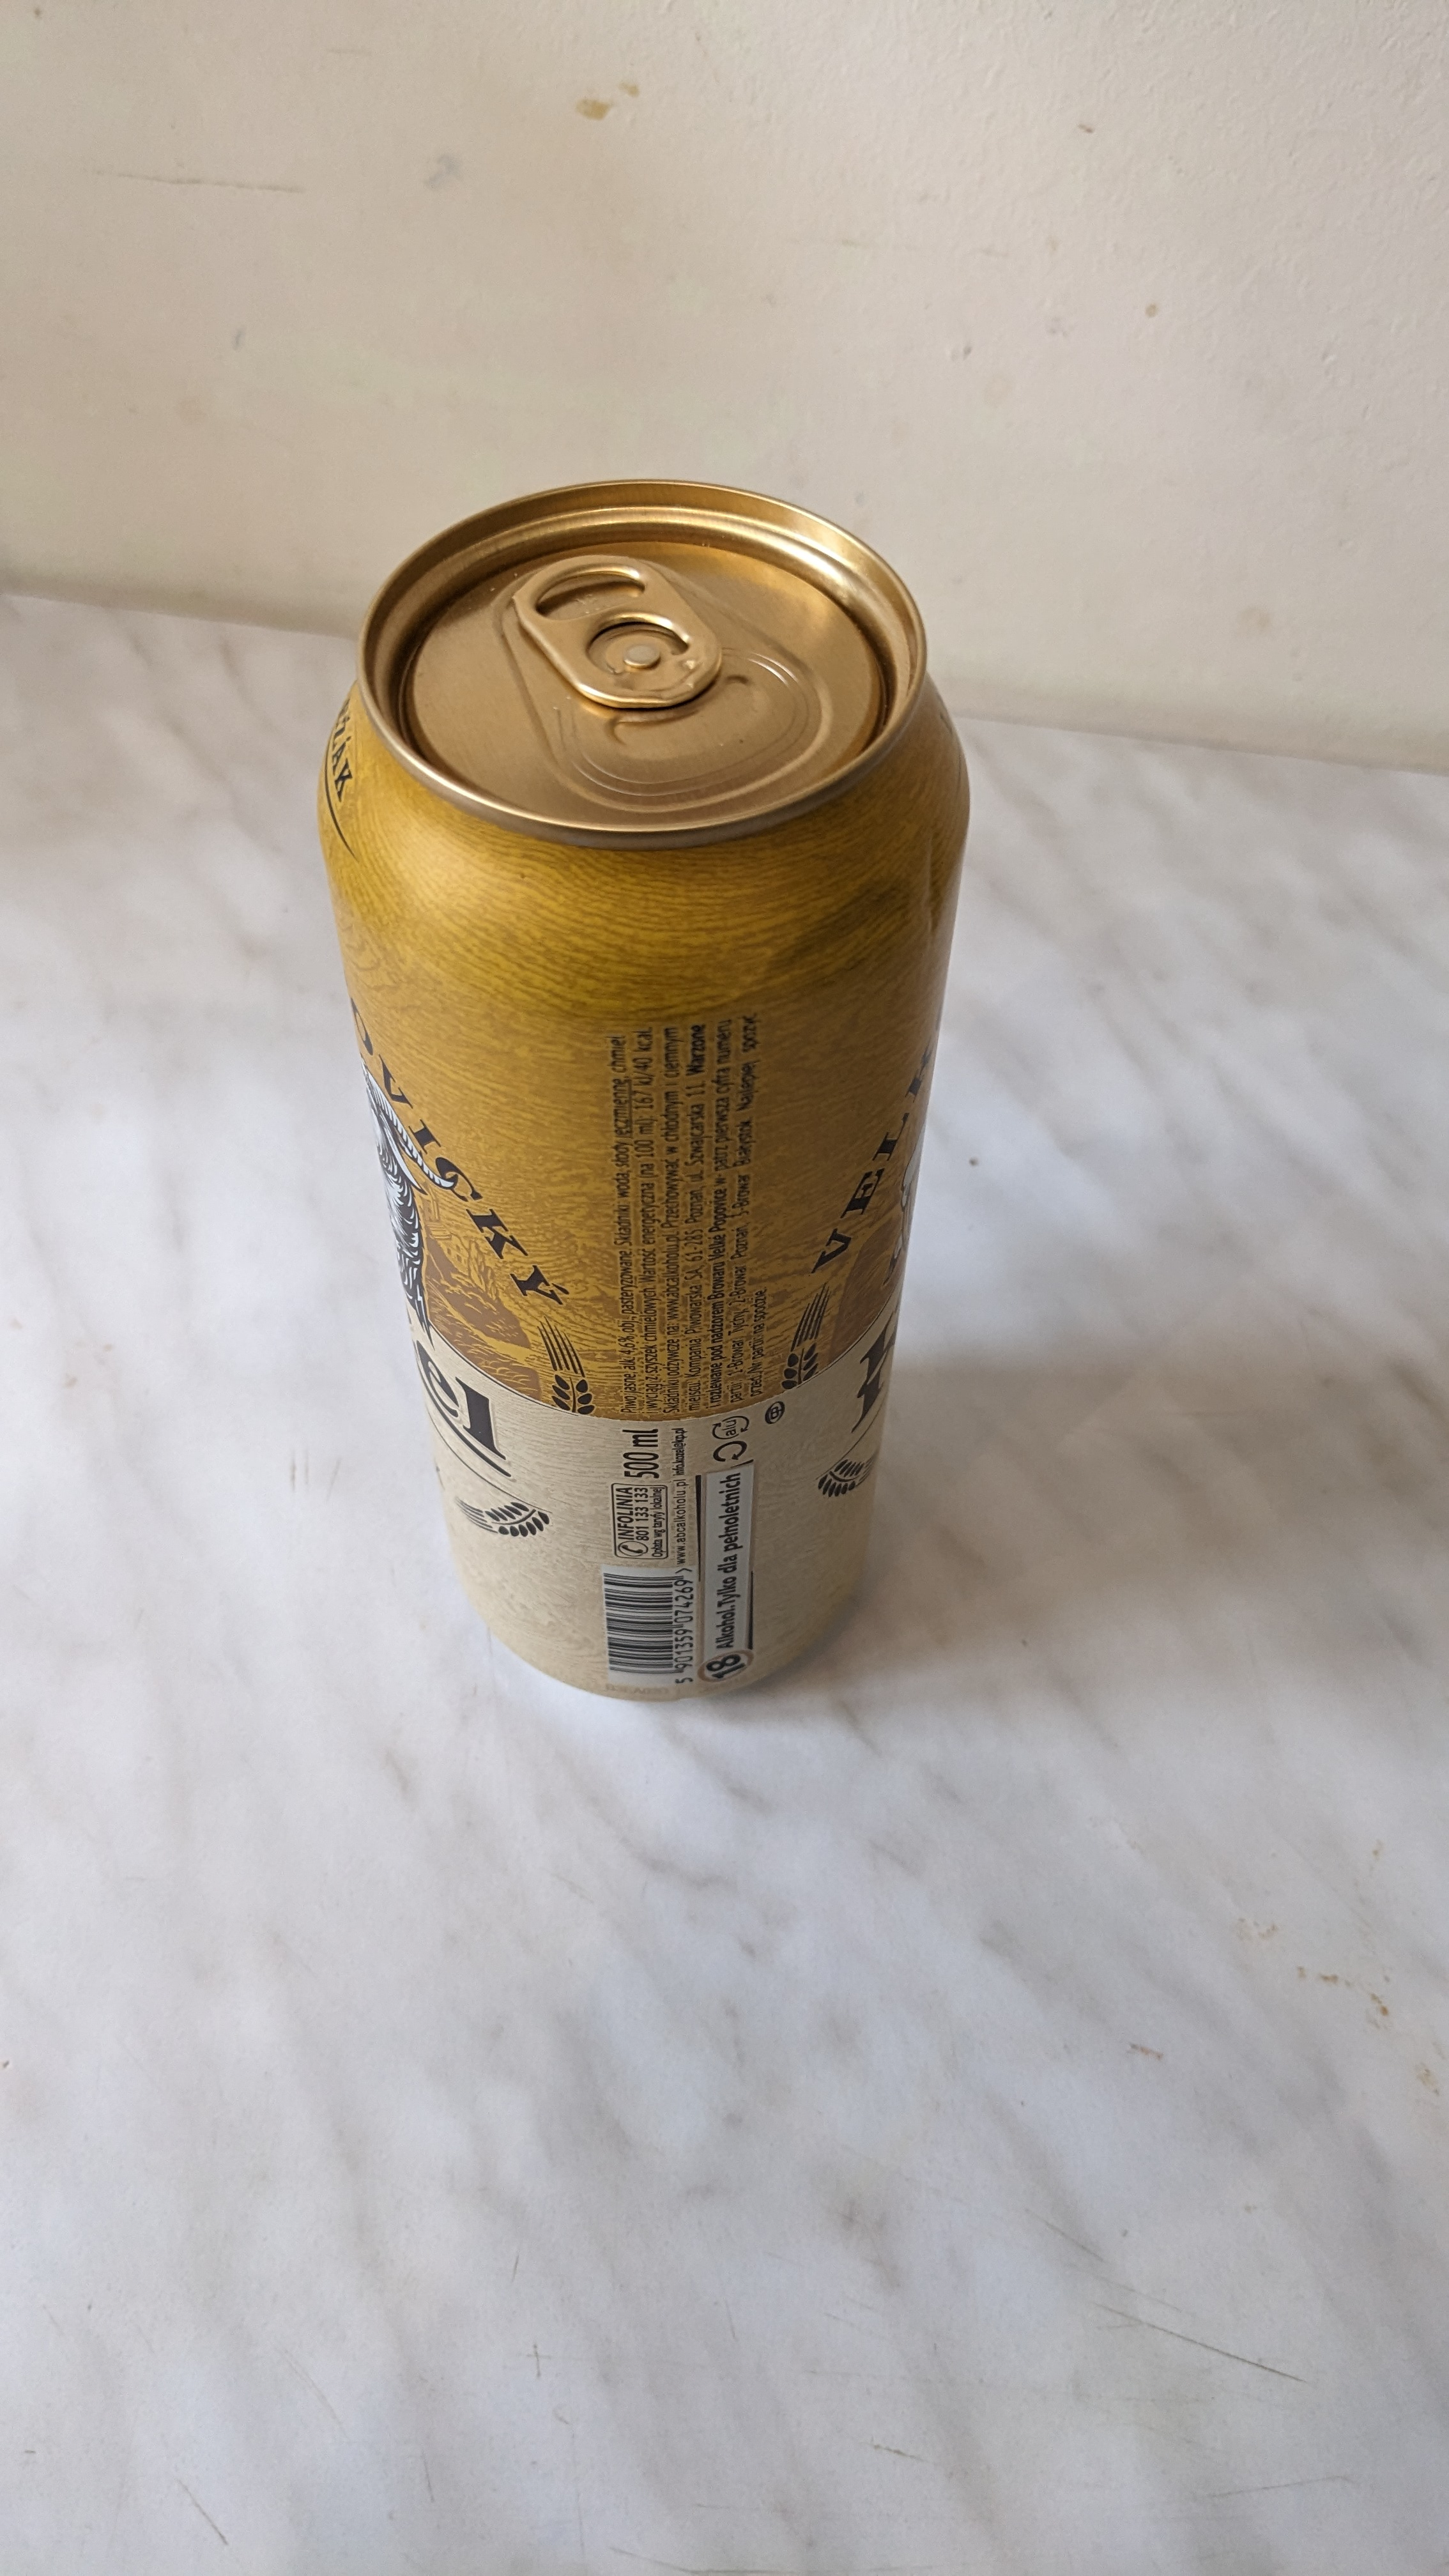kozel: (315, 488, 968, 1737)
